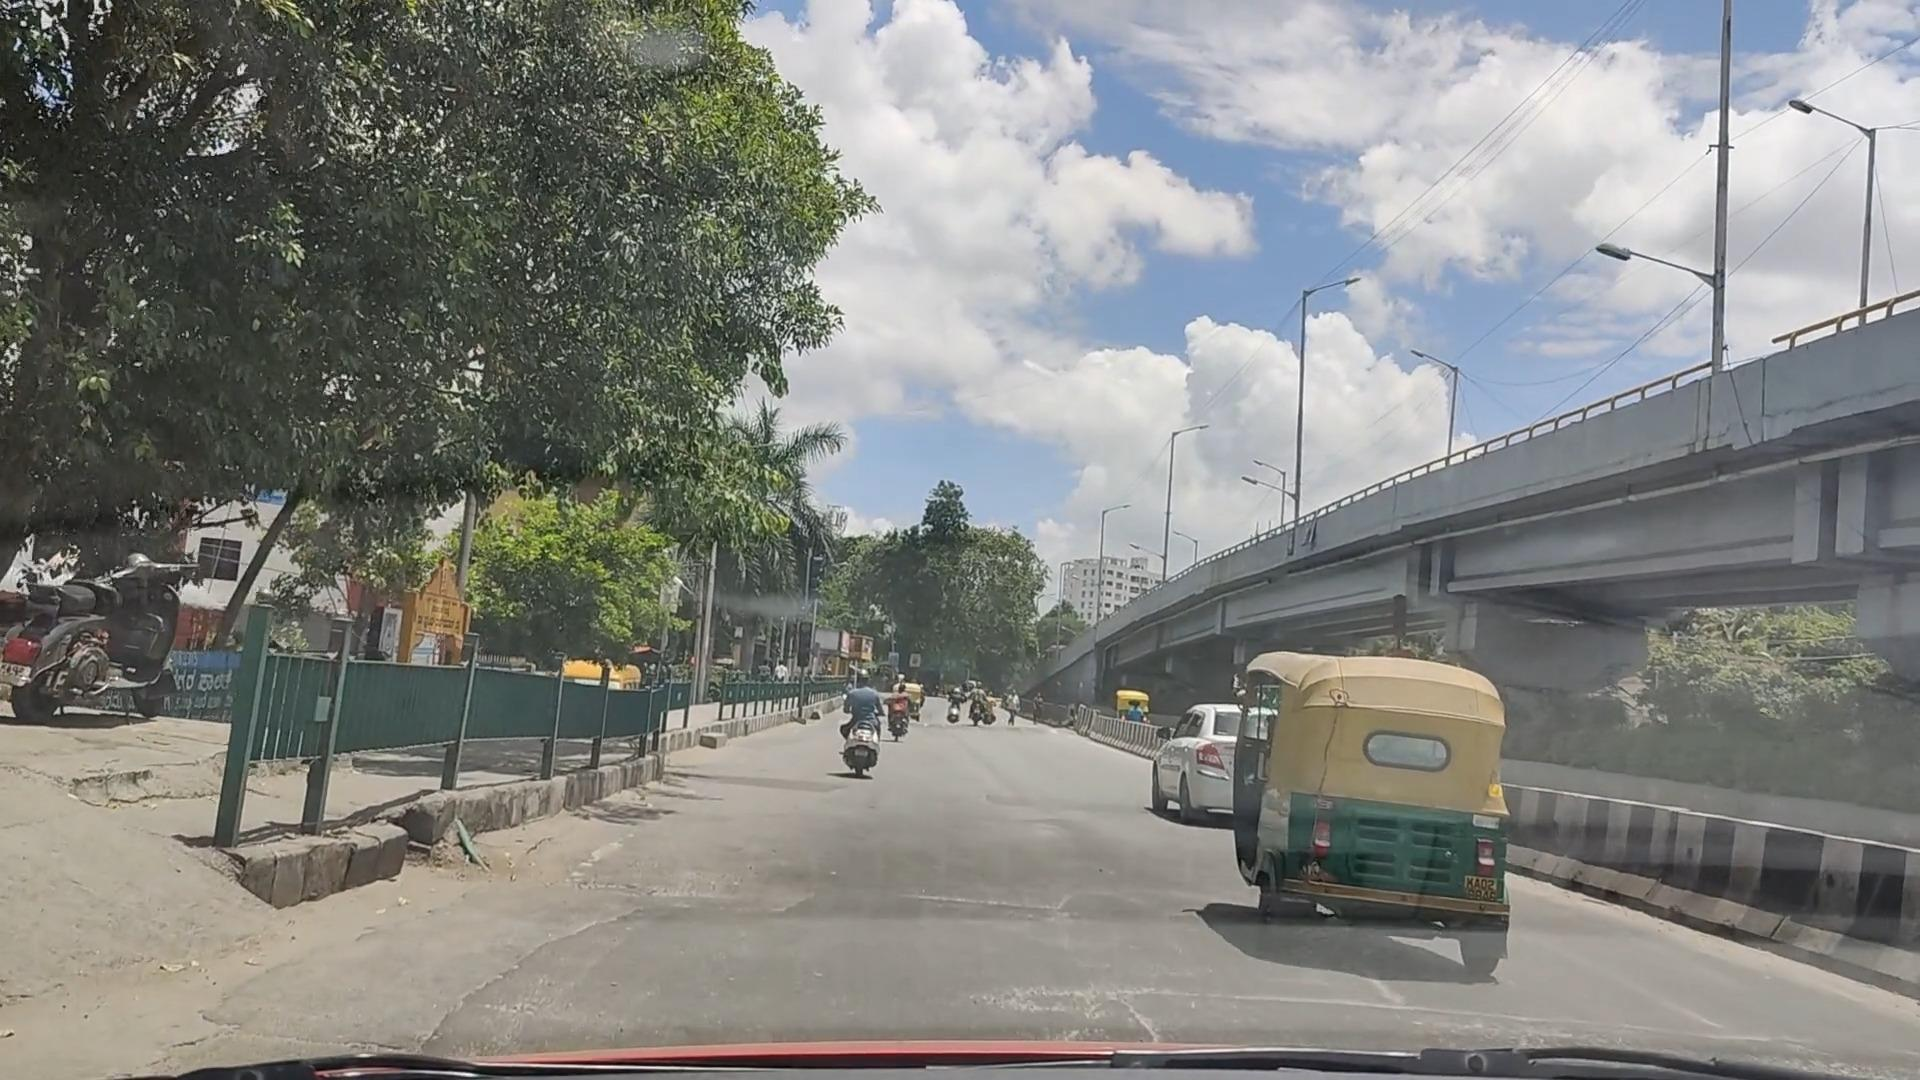LMV: (1266, 641, 1526, 942)
RoadDamages: (984, 926, 1153, 1047), (1319, 977, 1596, 1043), (906, 858, 1065, 918), (622, 865, 703, 915)
